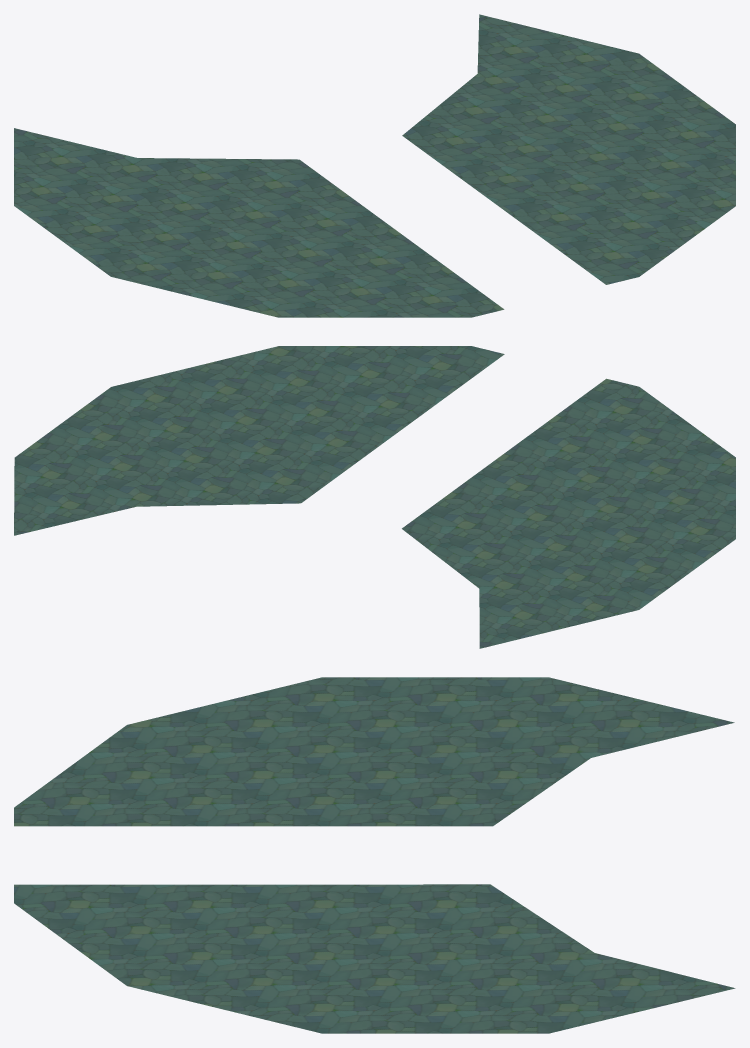
The model's file is scene_feicuizhita_tading02.FBX.
3 views of the same model, one above another, from view 1: azimuth 30°, elevation 25°; view 2: azimuth 150°, elevation 25°; view 3: azimuth 270°, elevation 25° (orthographic). The views are drawn at different scales.
Visible parts, largest first — view 1: scene_feicuizhita_tading02; view 2: scene_feicuizhita_tading02; view 3: scene_feicuizhita_tading02.
Part boxes in pixels (<box>): scene_feicuizhita_tading02: <box>14,14,735,317</box>; scene_feicuizhita_tading02: <box>14,346,735,648</box>; scene_feicuizhita_tading02: <box>14,677,735,1033</box>.
Bounding box in the file's own units: 2402 × 0.8126 × 2057.
